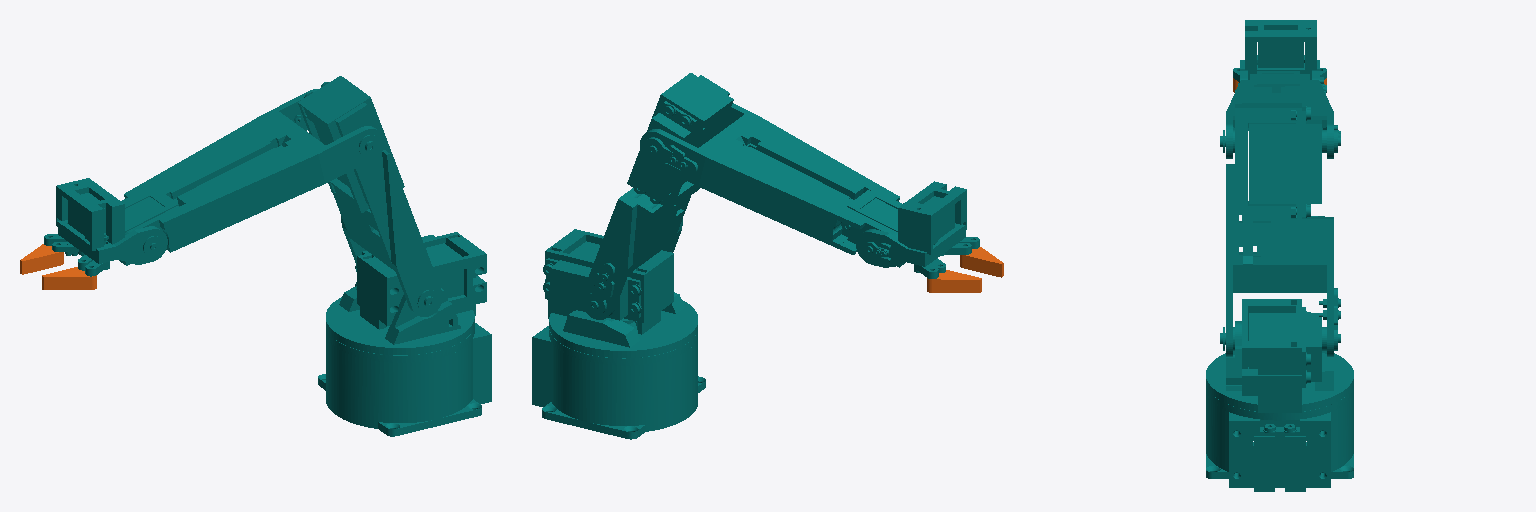
The robot description file, URDF, robot "z1_v3":
<?xml version='1.0' encoding='utf-8'?>
<robot name="z1_v3">
  <link name="base">
    <inertial>
      <origin xyz="0 0 0" />
      <mass value="0" />
      <inertia ixx="0.0001" iyy="0.0001" izz="0.0001" ixy="0" ixz="0" iyz="0" />
    </inertial>
    <visual>
      <geometry>
        <mesh filename="meshes/base.stl" scale=".001 .001 .001" />
      </geometry>
      <material name="base">
        <color rgba=".08 .53 .52 1" />
      </material>
    </visual>
    <collision>
      <origin xyz="0 0 -0.022" />
      <geometry>
        <box size=".075 .075 .05" />
      </geometry>
    </collision>
  </link>
  <link name="turntable">
    <inertial>
      <origin xyz="0 0 0" />
      <mass value="0.12" />
      <inertia ixx="0.0001" iyy="0.0001" izz="0.0001" ixy="0" ixz="0" iyz="0" />
    </inertial>
    <visual>
      <geometry>
        <mesh filename="meshes/turntable.stl" scale=".001 .001 .001" />
      </geometry>
      <material name="turntable">
        <color rgba=".08 .53 .52 1" />
      </material>
    </visual>
    <collision>
      <origin xyz="0.0008837299346950012 5.009326287108707e-16 0.017050000000000003" />
      <geometry>
        <box size="0.06142256316280725 0.06003025664425604 0.03195653105831925" />
      </geometry>
    </collision>
  </link>
  <link name="upper">
    <inertial>
      <origin xyz="0 0 0" />
      <mass value="0.13" />
      <inertia ixx="0.0001" iyy="0.0001" izz="0.0001" ixy="0" ixz="0" iyz="0" />
    </inertial>
    <visual>
      <geometry>
        <mesh filename="meshes/upper.stl" scale=".001 .001 .001" />
      </geometry>
      <material name="upper">
        <color rgba=".08 .53 .52 1" />
      </material>
    </visual>
    <collision>
      <origin xyz="-0.0220197813433495 0.00030000000000000073 0.0533894302018945" />
      <geometry>
        <box size="0.04964164962908807 0.04915653105831926 0.09985918766874406" />
      </geometry>
    </collision>
  </link>
  <link name="forearm">
    <inertial>
      <origin xyz="0 0 0" />
      <mass value="0.09" />
      <inertia ixx="0.0001" iyy="0.0001" izz="0.0001" ixy="0" ixz="0" iyz="0" />
    </inertial>
    <visual>
      <geometry>
        <mesh filename="meshes/forearm.stl" scale=".001 .001 .001" />
      </geometry>
      <material name="forearm">
        <color rgba=".08 .53 .52 1" />
      </material>
    </visual>
    <collision>
      <origin xyz="-0.063892905798485 0.00174999904633 -0.016826557025226493" />
      <geometry>
        <box size="0.11666202326186176 0.04683618829420577 0.04133702367373618" />
      </geometry>
    </collision>
  </link>
  <link name="wrist">
    <inertial>
      <origin xyz="0 0 0" />
      <mass value="0.06" />
      <inertia ixx="0.0001" iyy="0.0001" izz="0.0001" ixy="0" ixz="0" iyz="0" />
    </inertial>
    <visual>
      <geometry>
        <mesh filename="meshes/wrist.stl" scale=".001 .001 .001" />
      </geometry>
      <material name="wrist">
        <color rgba=".08 .53 .52 1" />
      </material>
    </visual>
    <collision>
      <origin xyz="-0.014795184143549987 5.876784120015799e-07 0.007709999999999006" />
      <geometry>
        <box size="0.038185149441935 0.03810743041813019 0.028417081404093377" />
      </geometry>
    </collision>
  </link>
  <link name="finger_a">
    <inertial>
      <origin xyz="0 0 0" />
      <mass value="0.012" />
      <inertia ixx="0.0001" iyy="0.0001" izz="0.0001" ixy="0" ixz="0" iyz="0" />
    </inertial>
    <visual>
      <geometry>
        <mesh filename="meshes/finger_a.stl" scale=".001 .001 .001" />
      </geometry>
      <material name="finger_a">
        <color rgba=".95 .47 .14 1" />
      </material>
    </visual>
    <collision>
      <origin xyz="0 0.011 0" />
      <geometry>
        <box size=".014 .0025 .010" />
      </geometry>
    </collision>
  </link>
  <link name="finger_b">
    <inertial>
      <origin xyz="0 0 0" />
      <mass value="0.012" />
      <inertia ixx="0.0001" iyy="0.0001" izz="0.0001" ixy="0" ixz="0" iyz="0" />
    </inertial>
    <visual>
      <geometry>
        <mesh filename="meshes/finger_b.stl" scale=".001 .001 .001" />
      </geometry>
      <material name="finger_b">
        <color rgba=".95 .47 .14 1" />
      </material>
    </visual>
    <collision>
      <origin xyz="0 -0.011 0" />
      <geometry>
        <box size=".014 .0025 .010" />
      </geometry>
    </collision>
  </link>
  <link name="tool">
    <inertial>
      <origin xyz="0 0 0" />
      <mass value="0.001" />
      <inertia ixx="0.0001" iyy="0.0001" izz="0.0001" ixy="0" ixz="0" iyz="0" />
    </inertial>
  </link>
  <joint name="base_rotation" type="revolute">
    <parent link="base" />
    <child link="turntable" />
    <origin xyz="0.0 0.0 0.005" rpy="0 0 0" />
    <axis xyz="0 0 1" />
    <limit lower="-1.57" upper="1.57" effort="1.0" velocity="1.5" />
    <dynamics damping=".05" friction=".01" />
  </joint>
  <joint name="shoulder" type="revolute">
    <parent link="turntable" />
    <child link="upper" />
    <origin xyz="0.0 0.0 0.023649999999999997" rpy="0 0 0" />
    <axis xyz="0 1 0" />
    <limit lower="-1.7" upper="1.7" effort="1.0" velocity="1.5" />
    <dynamics damping=".05" friction=".01" />
  </joint>
  <joint name="elbow" type="revolute">
    <parent link="upper" />
    <child link="forearm" />
    <origin xyz="-0.034202014332559996 0.0 0.09396926207859" rpy="0 0 0" />
    <axis xyz="0 1 0" />
    <limit lower="-1.7" upper="1.7" effort="1.0" velocity="1.5" />
    <dynamics damping=".05" friction=".01" />
  </joint>
  <joint name="wrist" type="revolute">
    <parent link="forearm" />
    <child link="wrist" />
    <origin xyz="-0.12128696578444001 0.0 -0.030240236949958005" rpy="0 0 0" />
    <axis xyz="0 1 0" />
    <limit lower="-1.57" upper="1.57" effort="0.15" velocity="1.5" />
    <dynamics damping=".05" friction=".01" />
  </joint>
  <joint name="finger_a_slide" type="prismatic">
    <parent link="wrist" />
    <child link="finger_a" />
    <origin xyz="-0.04951101988299999 0.0 -0.010979025128631989" rpy="0 0 0" />
    <axis xyz="0 -1 0" />
    <limit lower="0" upper="0.008" effort="5" velocity="1.5" />
    <dynamics damping=".05" friction=".01" />
  </joint>
  <joint name="finger_b_slide" type="prismatic">
    <parent link="wrist" />
    <child link="finger_b" />
    <origin xyz="-0.04951101988299999 0.0 -0.010979025128631989" rpy="0 0 0" />
    <axis xyz="0 1 0" />
    <limit lower="0" upper="0.008" effort="5" velocity="1.5" />
    <dynamics damping=".05" friction=".01" />
  </joint>
  <joint name="tool_frame" type="fixed">
    <parent link="wrist" />
    <child link="tool" />
    <origin xyz="-0.04951101988299999 0.0 -0.010979025128631989" rpy="0 0 0" />
  </joint>
</robot>

--- Render facts (derived) ---
Views: 3 orthographic renders of the robot side by side, from view 1: azimuth 30°, elevation 25°; view 2: azimuth 150°, elevation 25°; view 3: azimuth 270°, elevation 25°.
Model z1_v3 with 8 links and 7 joints (4 revolute, 2 prismatic, 1 fixed), rooted at base, posed all joints at 0.
Visible links, largest first — view 1: forearm, base, upper, turntable, wrist, finger_b, finger_a; view 2: forearm, base, upper, turntable, wrist, finger_a, finger_b; view 3: upper, turntable, base, wrist, forearm.
Link boxes in pixels (x1=…): forearm: x1=119, y1=89, x2=383, y2=265; base: x1=318, y1=323, x2=491, y2=436; upper: x1=298, y1=76, x2=442, y2=316; turntable: x1=326, y1=232, x2=486, y2=354; wrist: x1=44, y1=178, x2=167, y2=276; finger_b: x1=42, y1=267, x2=96, y2=289; finger_a: x1=20, y1=244, x2=63, y2=274; forearm: x1=640, y1=103, x2=904, y2=267; base: x1=532, y1=326, x2=705, y2=439; upper: x1=581, y1=73, x2=733, y2=319; turntable: x1=543, y1=229, x2=697, y2=357; wrist: x1=856, y1=181, x2=979, y2=278; finger_a: x1=927, y1=270, x2=981, y2=292; finger_b: x1=960, y1=247, x2=1003, y2=277; upper: x1=1220, y1=103, x2=1340, y2=356; turntable: x1=1206, y1=299, x2=1353, y2=412; base: x1=1206, y1=386, x2=1353, y2=491; wrist: x1=1233, y1=20, x2=1326, y2=93; forearm: x1=1226, y1=71, x2=1340, y2=158.
Size in the robot's own frame: 0.2528 by 0.075 by 0.1826 metres.
7 mesh visuals loaded from 7 distinct referenced files (7 binary STL).
